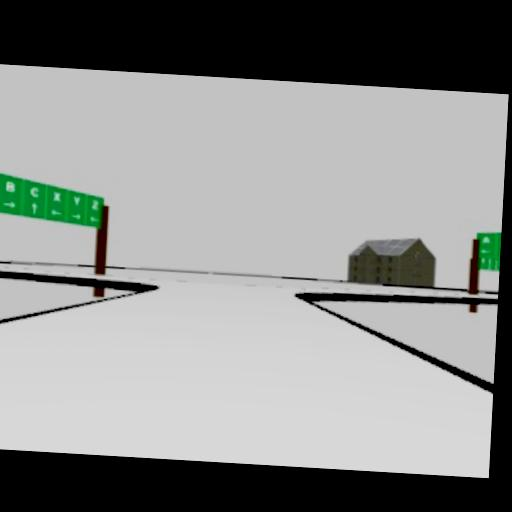A: (482, 235, 492, 244)
B: (3, 181, 18, 193)
C: (29, 186, 41, 198)
Left: (50, 209, 62, 217), (90, 216, 98, 224)
Right: (1, 201, 18, 208), (69, 213, 83, 220)
Straight: (31, 201, 38, 214)
X: (53, 192, 63, 204)
Y: (72, 196, 82, 206)
Z: (90, 199, 101, 211)
